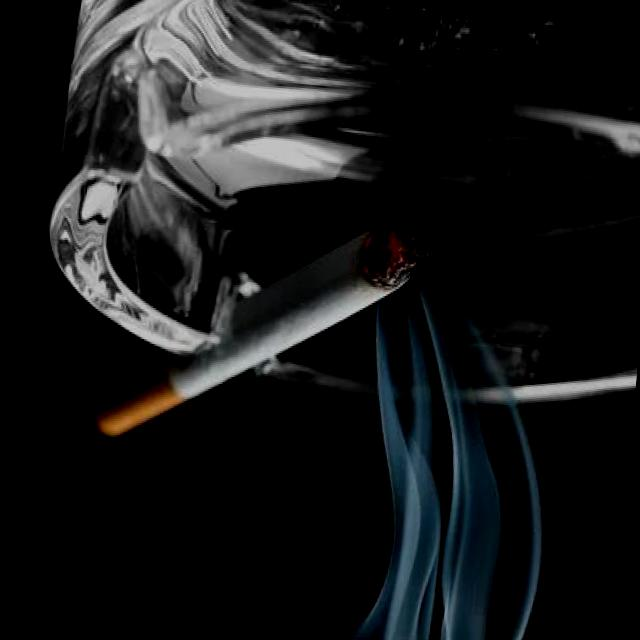smoke: (74, 184, 443, 479)
